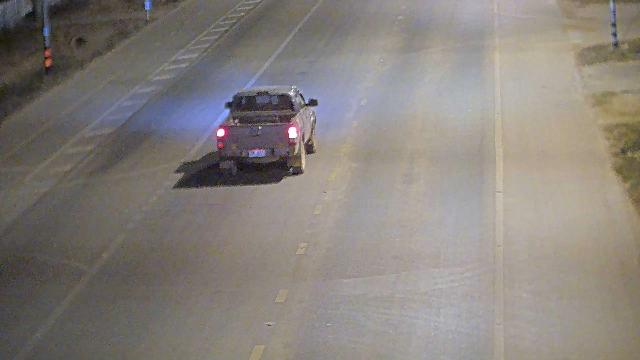pickup-truck: (215, 84, 318, 176)
